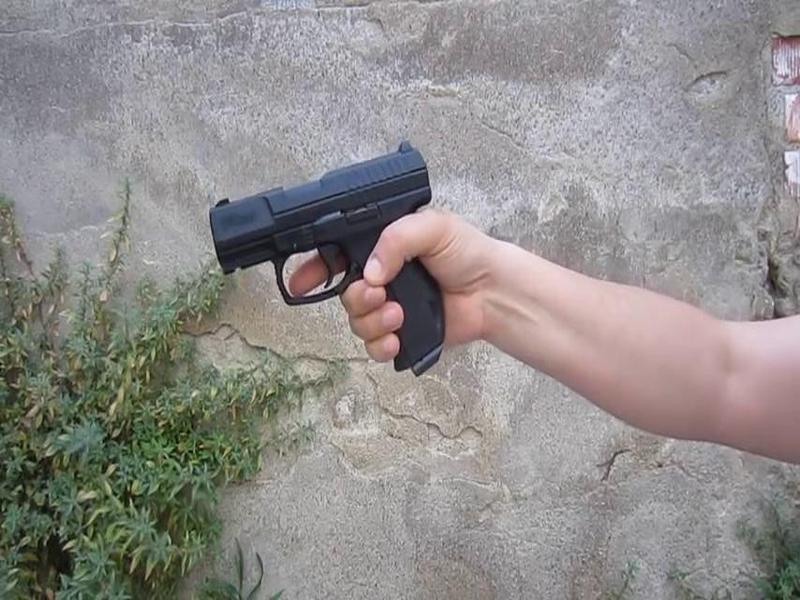Pistola: (175, 109, 472, 425)
